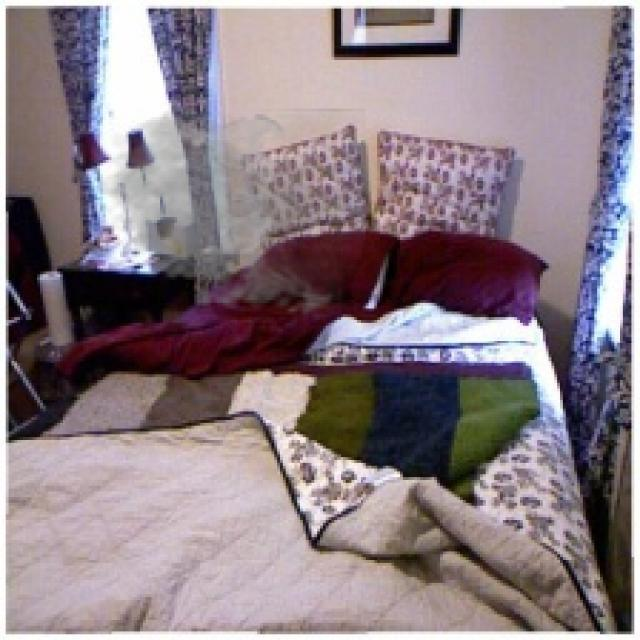Smoke: (88, 108, 366, 320)
